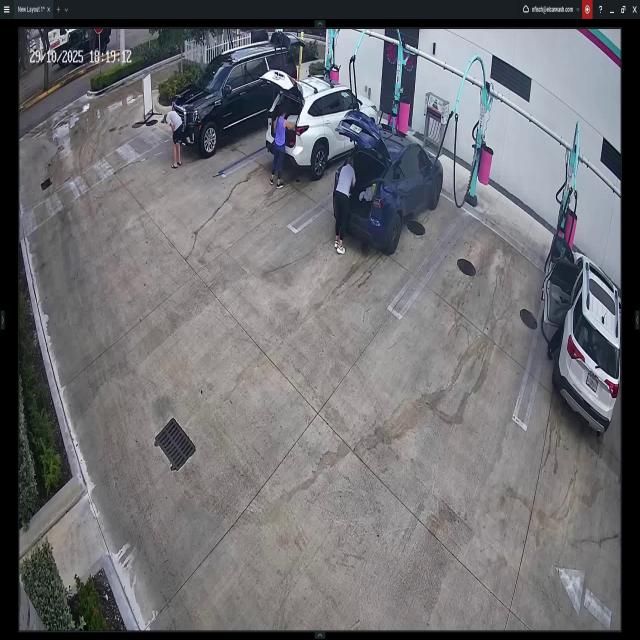Car: (335, 107, 443, 256), (547, 233, 621, 438), (173, 39, 297, 157), (262, 65, 378, 178)
